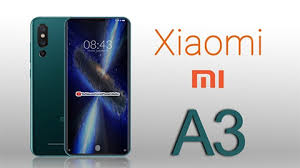mi: (62, 15, 134, 159)
